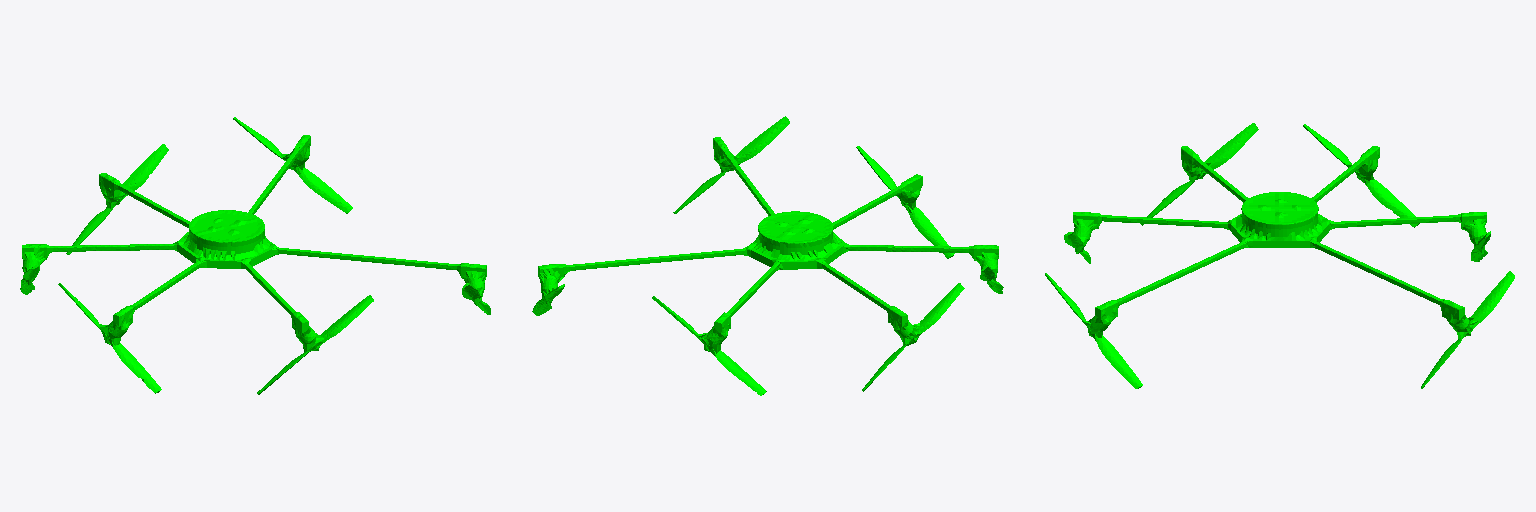
The robot description file, URDF, robot "othex_3d_arm":
<robot name="othex_3d_arm">
  <link name="root_link">
    <inertial>
      <origin xyz="-0.0026057700000000003 2.6285900000000003e-06 -0.0551054" rpy="0 0 0"/>
      <mass value="1.73671"/>
      <inertia ixx="0.102027" ixy="3.49564e-06" ixz="-0.000139376" iyy="0.0882212" iyz="3.14137e-06" izz="0.187815"/>
    </inertial>
    <visual>
      <origin xyz="0 0 -0.03475" rpy="0 0 0"/>
      <geometry>
        <mesh filename="package://meshes/sim_drone.stl" scale="0.001 0.001 0.001"/>
      </geometry>
      <material name="green">
        <color rgba="0 1 0 1"/>
      </material>
    </visual>
    <collision>
      <origin xyz="0 0 -0.03475" rpy="0 0 0"/>
      <geometry>
        <mesh filename="package://meshes/sim_drone.stl" scale="0.001 0.001 0.001"/>
      </geometry>
    </collision>
  </link>
  <link name="frame_prop_6"/>
  <joint name="frame_prop_6_fixed_joint" type="fixed">
    <origin xyz="0.36089 -0.371224 -0.10081690000000001" rpy="-0.618076381244 -0.142727918556 -0.640970632391"/>
    <parent link="root_link"/>
    <child link="frame_prop_6"/>
    <dynamics damping="0.1"/>
  </joint>
  <link name="frame_prop_5"/>
  <joint name="frame_prop_5_fixed_joint" type="fixed">
    <origin xyz="-0.0221766 -0.39737700000000004 -0.10081690000000001" rpy="0.618076202381 -0.142728250329 -1.80249069312"/>
    <parent link="root_link"/>
    <child link="frame_prop_5"/>
    <dynamics damping="0.1"/>
  </joint>
  <link name="frame_prop_4"/>
  <joint name="frame_prop_4_fixed_joint" type="fixed">
    <origin xyz="-0.365744 -0.156834 -0.10065560000000001" rpy="-0.618076126447 -0.142728328901 -2.56083329174"/>
    <parent link="root_link"/>
    <child link="frame_prop_4"/>
    <dynamics damping="0.1"/>
  </joint>
  <link name="frame_prop_3"/>
  <joint name="frame_prop_3_fixed_joint" type="fixed">
    <origin xyz="-0.365827 0.15675 -0.10081690000000001" rpy="0.618076126447 -0.142728328901 2.56083329174"/>
    <parent link="root_link"/>
    <child link="frame_prop_3"/>
    <dynamics damping="0.1"/>
  </joint>
  <link name="frame_prop_2"/>
  <joint name="frame_prop_2_fixed_joint" type="fixed">
    <origin xyz="-0.0221766 0.39737700000000004 -0.10081690000000001" rpy="-0.618076202381 -0.142728250329 1.80249069312"/>
    <parent link="root_link"/>
    <child link="frame_prop_2"/>
    <dynamics damping="0.1"/>
  </joint>
  <link name="frame_prop_1"/>
  <joint name="frame_prop_1_fixed_joint" type="fixed">
    <origin xyz="0.36089 0.371224 -0.10081690000000001" rpy="0.618076381244 -0.142727918556 0.640970632391"/>
    <parent link="root_link"/>
    <child link="frame_prop_1"/>
    <dynamics damping="0.1"/>
  </joint>
</robot>

--- Render facts (derived) ---
Views: 3 orthographic renders of the robot side by side, from view 1: azimuth 30°, elevation 25°; view 2: azimuth 150°, elevation 25°; view 3: azimuth 270°, elevation 25°.
Model othex_3d_arm with 7 links and 6 joints (6 fixed), rooted at root_link, posed all joints at 0.
Visible links, largest first — view 1: root_link; view 2: root_link; view 3: root_link.
Link boxes in pixels (x1=…): root_link: x1=20, y1=117, x2=490, y2=394; root_link: x1=532, y1=116, x2=1003, y2=395; root_link: x1=1045, y1=123, x2=1514, y2=388.
Bounding box of the posed robot: 0.8737 × 0.9258 × 0.1909 m (x, y, z).
Meshes: 1 distinct files referenced, 1 mesh visuals loaded (1 binary STL).